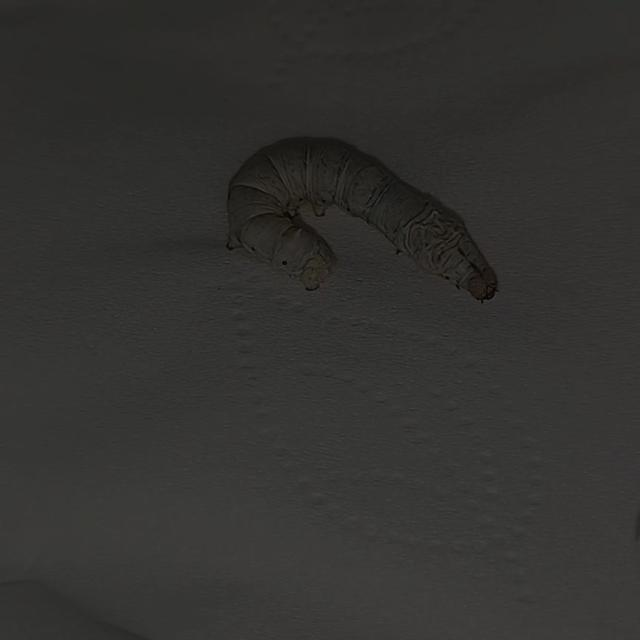Healthy: (197, 106, 528, 370)
